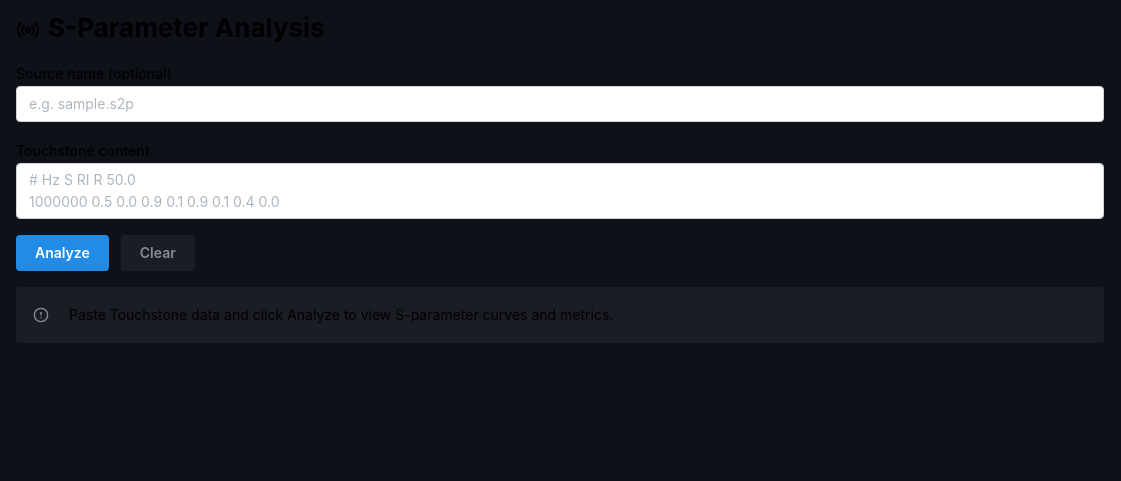
Scenario: SParameterAnalysisScreen › displays result after analysis
Type "# test" into the text box labelled "Touchstone content" at (560, 191), box top-left (16, 163), bottom-right (1104, 219)
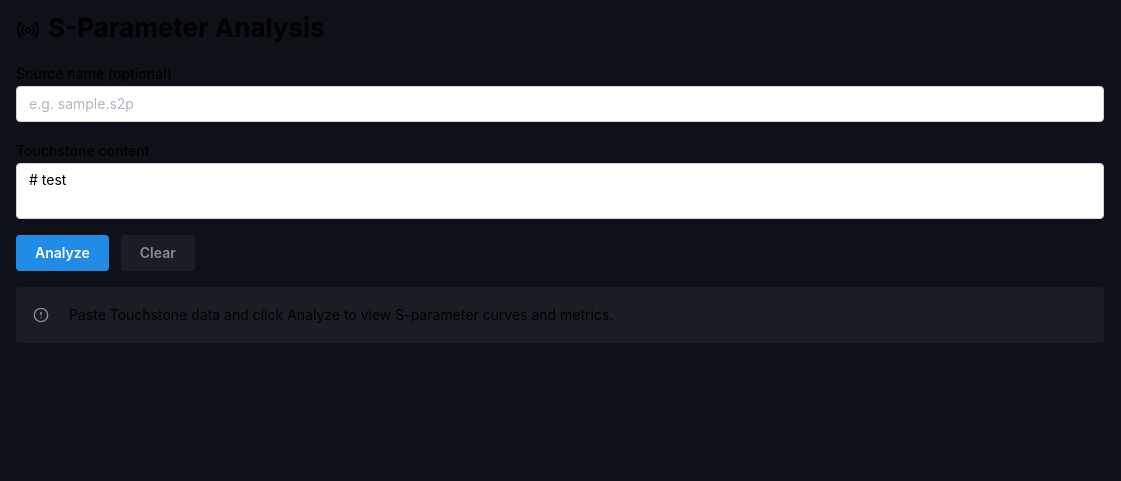
Click the button "Analyze" at (62, 253), box top-left (16, 235), bottom-right (109, 271)
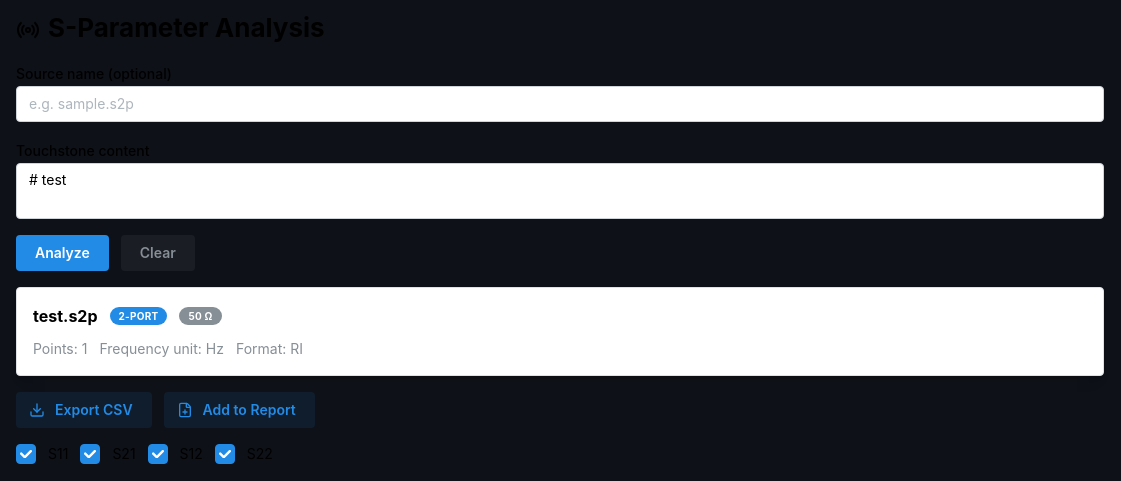
Check: the text "test.s2p" is shown, box top-left (33, 304), bottom-right (98, 329)
